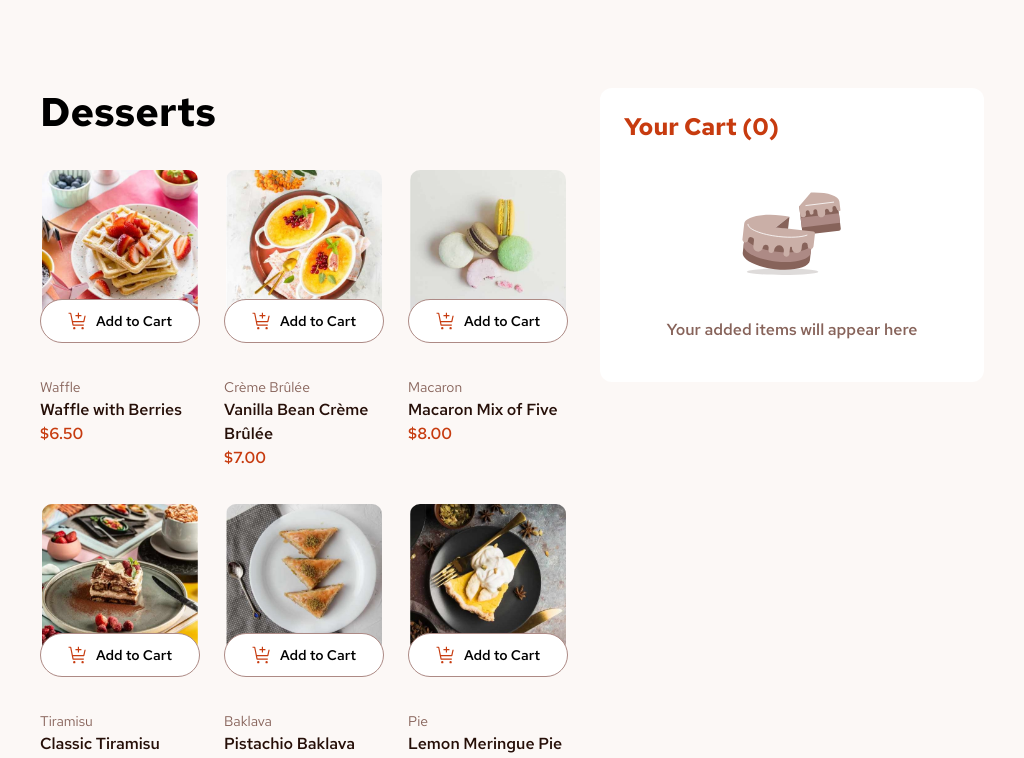
Dessert Store flows › decrementing from 1 removes the item and returns to empty cart state
What coordinates should you click on to do the following:
click the 1st button "Add to Cart"
I would click on:
 (120, 321)
Its box is [40, 299, 200, 343].
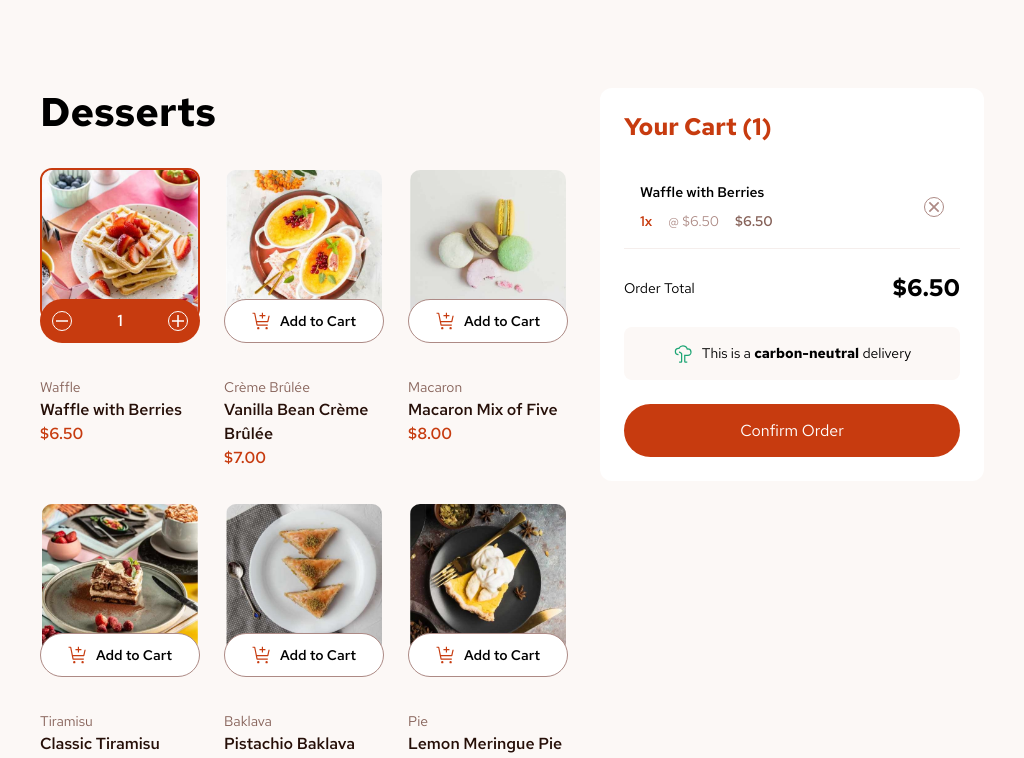
Check: the heading "Your Cart (1)" is shown, box [624, 111, 772, 142]
What coordinates should you click on to do the following:
click the button named "decrease quantity"
I would click on:
 (62, 321)
Its box is [52, 311, 72, 331].
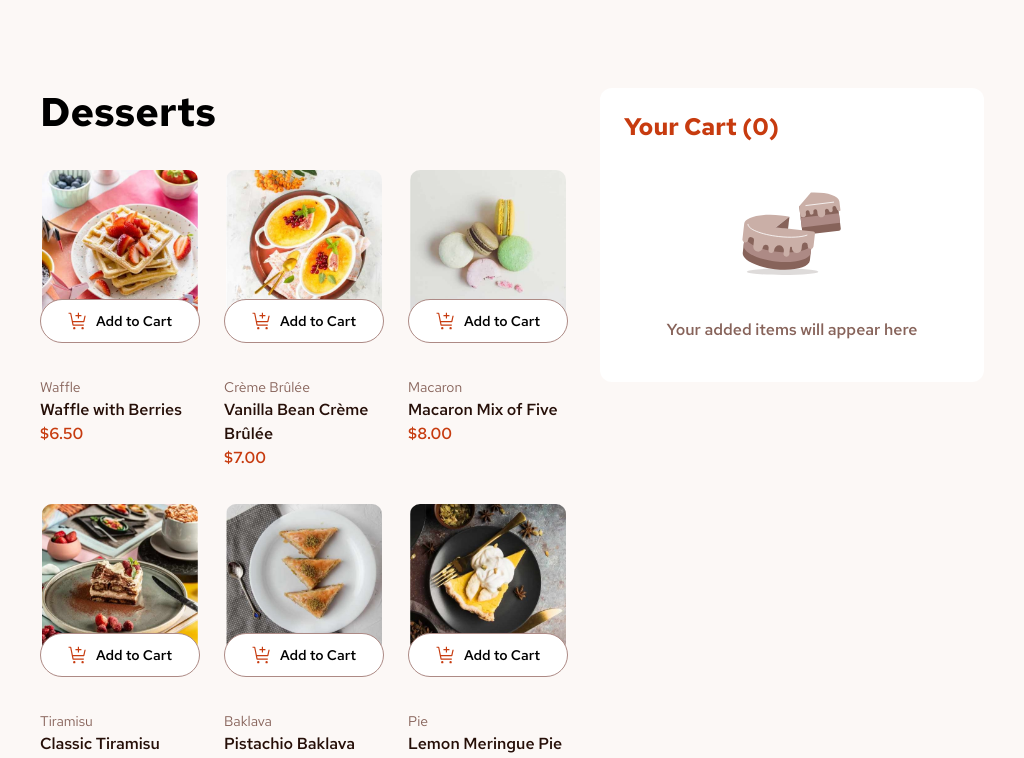
Check: the heading "Your Cart (0)" is shown, box [624, 111, 779, 142]
Check: the text "Your added items will appear here" is shown, box [666, 318, 917, 342]
Check: the 1st button "Add to Cart" is shown, box [40, 299, 200, 343]
